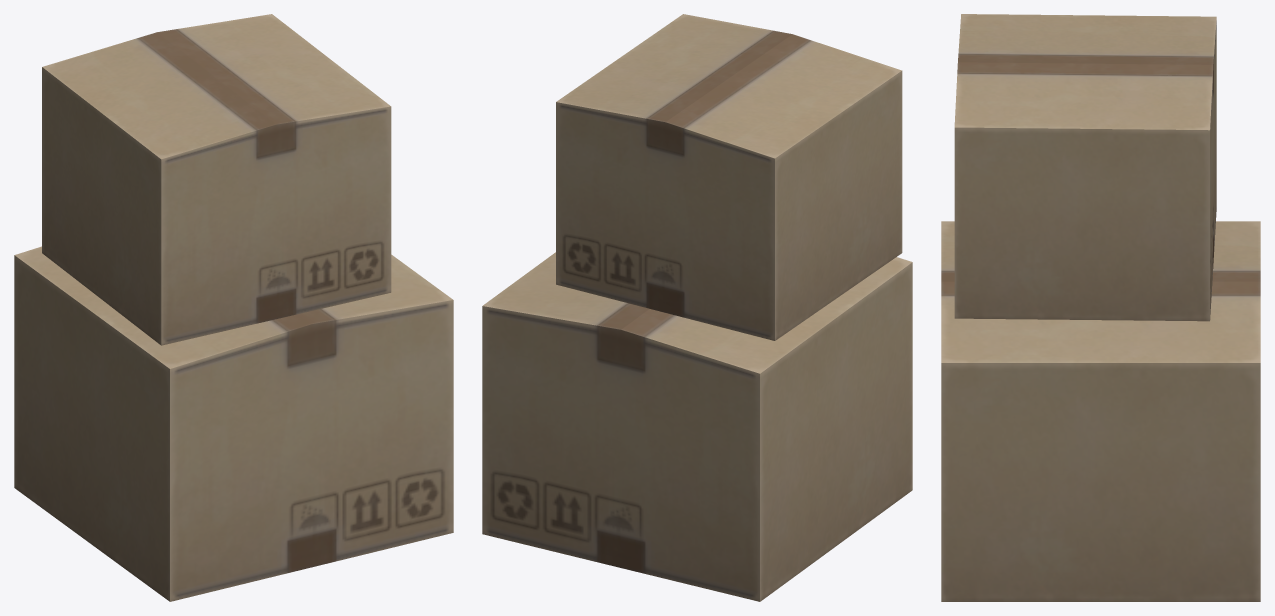
File: WarehouseManager_09.obj
The picture shows the model from 3 angles, left to right: view 1: azimuth 30°, elevation 25°; view 2: azimuth 150°, elevation 25°; view 3: azimuth 270°, elevation 25°; orthographic projection. The views are drawn at different scales.
Size of the model in its own units: 0.8852 by 1.32 by 0.8422.
Materials: 2 (2 with a texture image).
